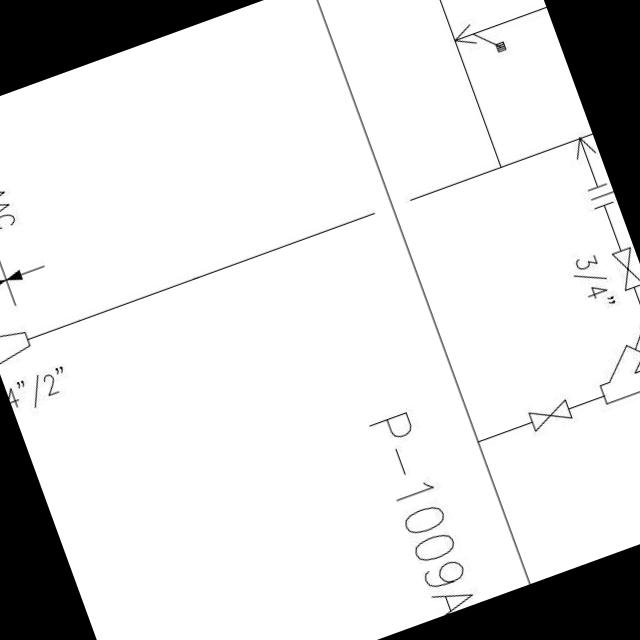GV: (522, 394, 580, 438), (607, 240, 640, 295)
SP: (0, 320, 38, 367)
